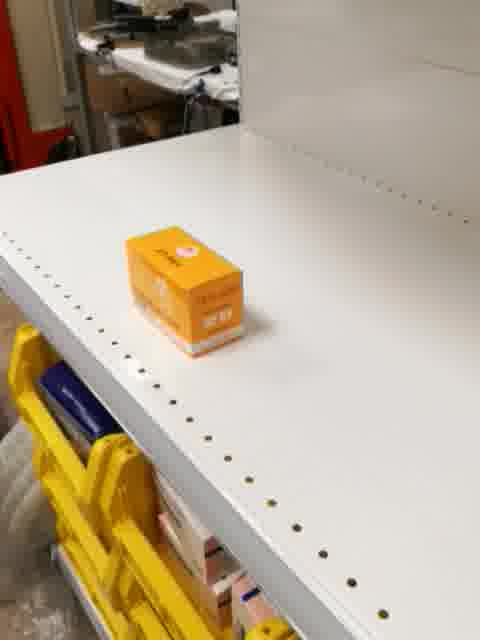jasminetea: (122, 222, 246, 359)
